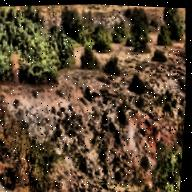boar: (78, 82, 95, 102), (96, 110, 109, 123), (108, 122, 116, 137), (115, 129, 121, 142)
